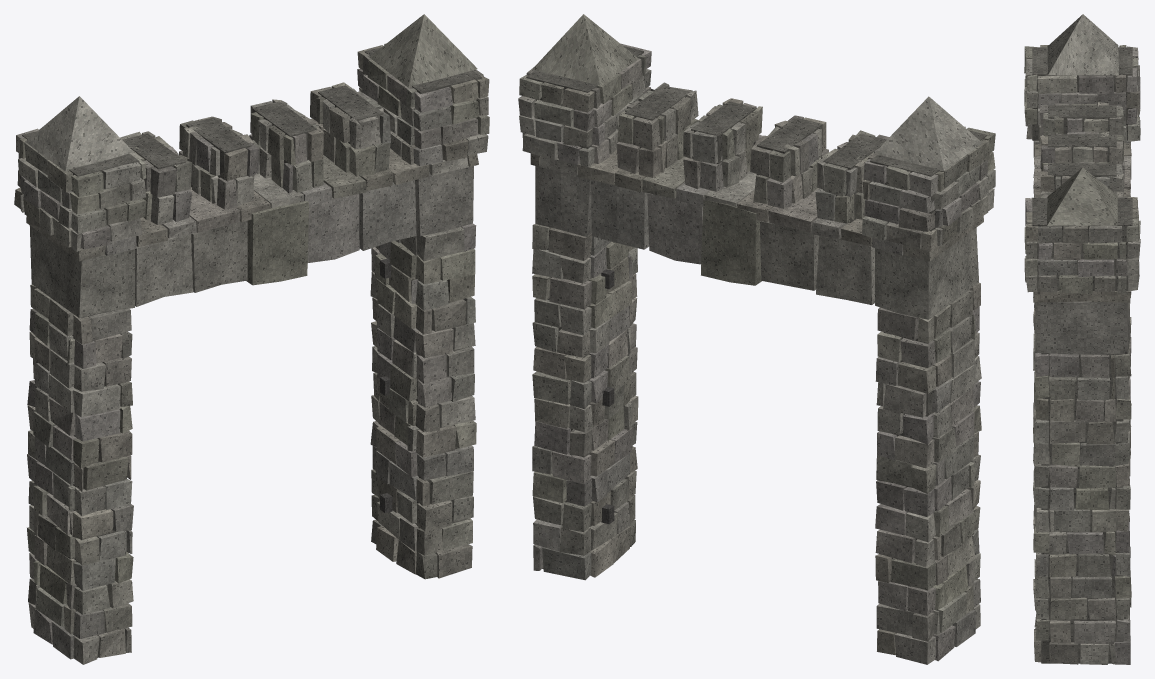
The model's file is portal_pedra_gigante.glb.
The picture shows the model from 3 angles, left to right: view 1: azimuth 30°, elevation 25°; view 2: azimuth 150°, elevation 25°; view 3: azimuth 270°, elevation 25°; orthographic projection. The views are drawn at different scales.
Visible parts, largest first — view 1: portal_pedra_gigante_pedra; view 2: portal_pedra_gigante_pedra; view 3: portal_pedra_gigante_pedra.
Part boxes in pixels (<box>): portal_pedra_gigante_pedra: <box>14,14,489,664</box>; portal_pedra_gigante_pedra: <box>518,14,995,664</box>; portal_pedra_gigante_pedra: <box>1024,14,1140,664</box>.
Size of the model in its own units: 9.55 by 11.83 by 2.56.
2 materials, 2 textured.
